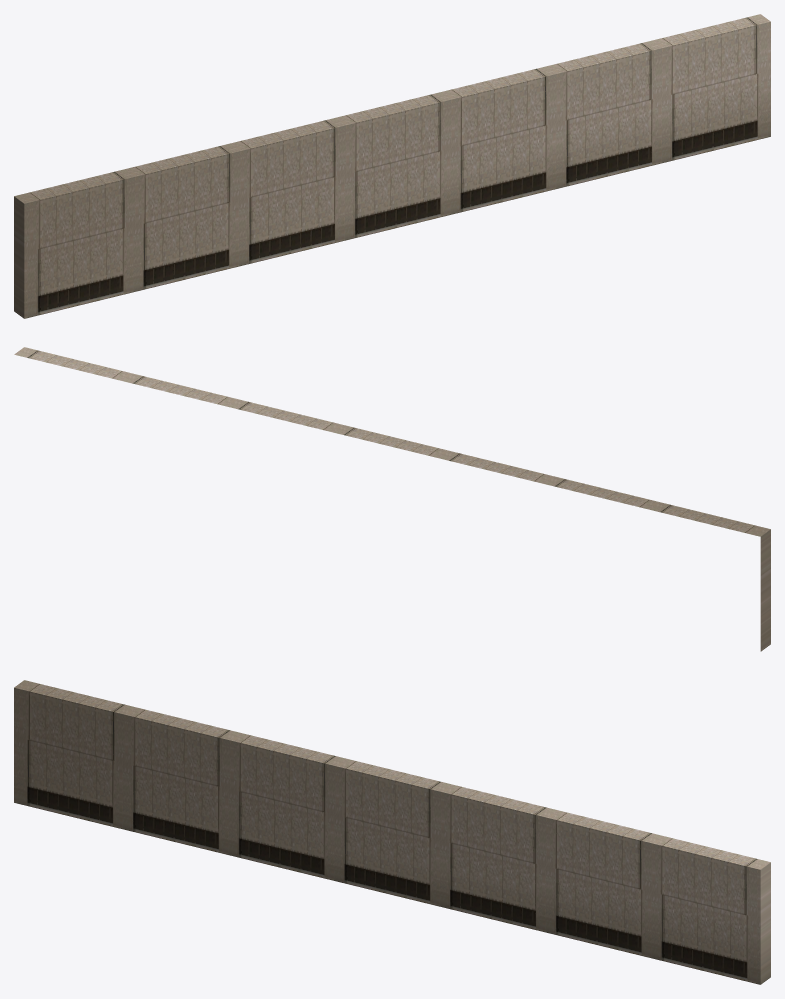
File: M2Zone2_ConcrestRainWall.glb
3 views of the same model, one above another, from view 1: azimuth 30°, elevation 25°; view 2: azimuth 150°, elevation 25°; view 3: azimuth 330°, elevation 25° (orthographic).
Visible parts, largest first — view 1: M2ZONE2_CONCRESTRAINWALL; view 2: M2ZONE2_CONCRESTRAINWALL; view 3: M2ZONE2_CONCRESTRAINWALL.
Boxes of the visible parts, x1,y1,x2,y2 form: M2ZONE2_CONCRESTRAINWALL: [14, 14, 770, 318]; M2ZONE2_CONCRESTRAINWALL: [14, 347, 770, 651]; M2ZONE2_CONCRESTRAINWALL: [14, 680, 770, 984].
Bounding box in the file's own units: 40 × 5.89 × 0.964.
Materials: 1 (1 with a texture image).
